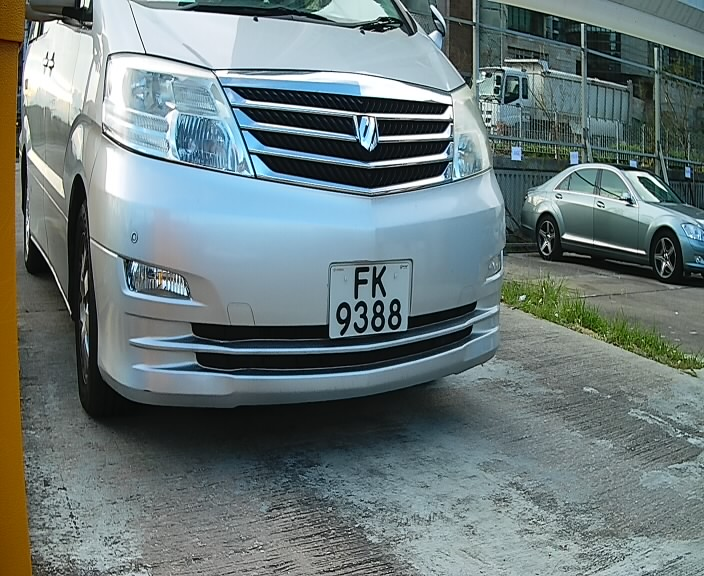Car: (14, 2, 512, 447)
License Plate: (323, 252, 420, 345)
